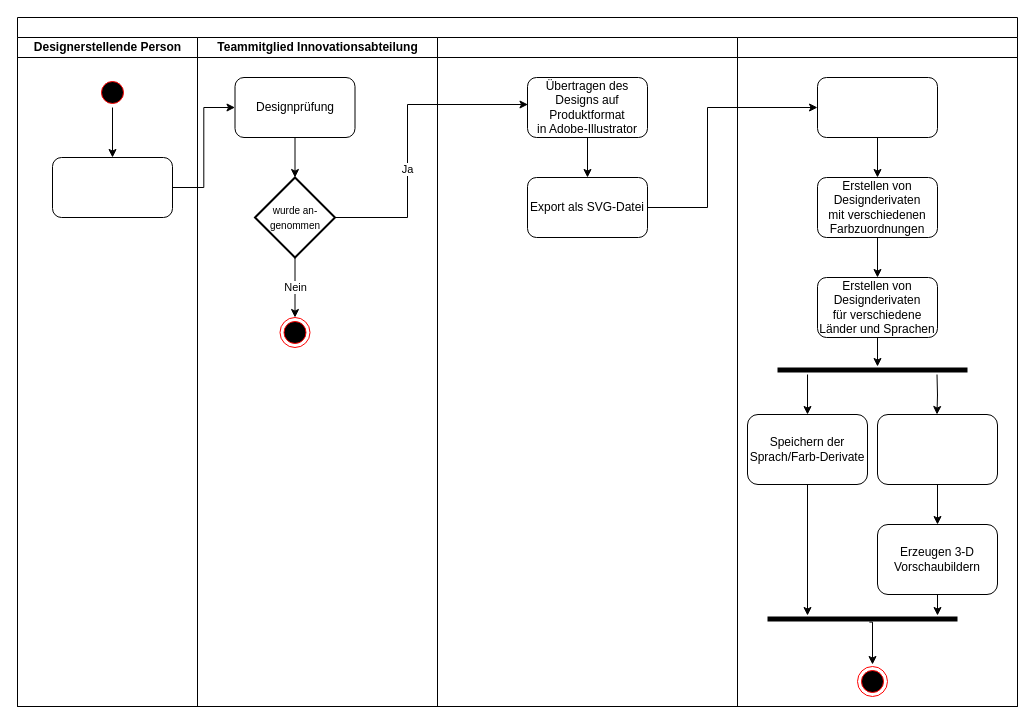
This 1035x724 diagram has some shape labels left out. The shapes that lost their labels are listed below. From the top down, each one's box as (x1, y1, x2, y2) in pixels, then its label:
(816, 76, 938, 138): Konvertierung von SVG-Datei in FreeDesign-Datei
(52, 156, 172, 218): Designeinreichung
(436, 36, 738, 706): Teammitglied Grafikabeilung
(736, 36, 1018, 706): Import-Prozess
(876, 414, 998, 484): Erzeugen von SVG-Dateien der Einzelseiten der Sprach/Farb-Derivate
